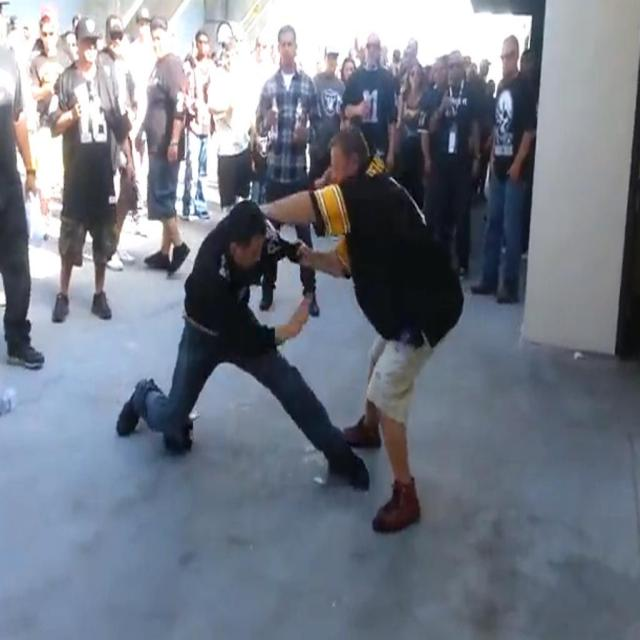nomask: (330, 152, 351, 188), (238, 235, 260, 266), (501, 44, 517, 72), (108, 28, 123, 54), (83, 33, 97, 60), (280, 36, 294, 61), (152, 34, 166, 54), (42, 27, 53, 49), (367, 39, 377, 62), (449, 58, 460, 78), (522, 56, 534, 74), (219, 36, 232, 50), (435, 64, 444, 83), (139, 20, 149, 37), (198, 38, 208, 54), (66, 38, 76, 54), (234, 36, 244, 52), (256, 39, 266, 54), (326, 54, 335, 70), (343, 65, 352, 80), (356, 42, 365, 57), (411, 68, 418, 86), (222, 61, 230, 72), (1, 6, 9, 17), (349, 54, 356, 66), (271, 48, 277, 61), (95, 39, 101, 51), (407, 43, 413, 54), (464, 61, 470, 72), (483, 65, 488, 74), (13, 21, 18, 29), (490, 83, 494, 92), (221, 53, 227, 59), (472, 67, 477, 74), (24, 30, 28, 37), (318, 63, 322, 70), (217, 63, 221, 70), (214, 55, 216, 63)
